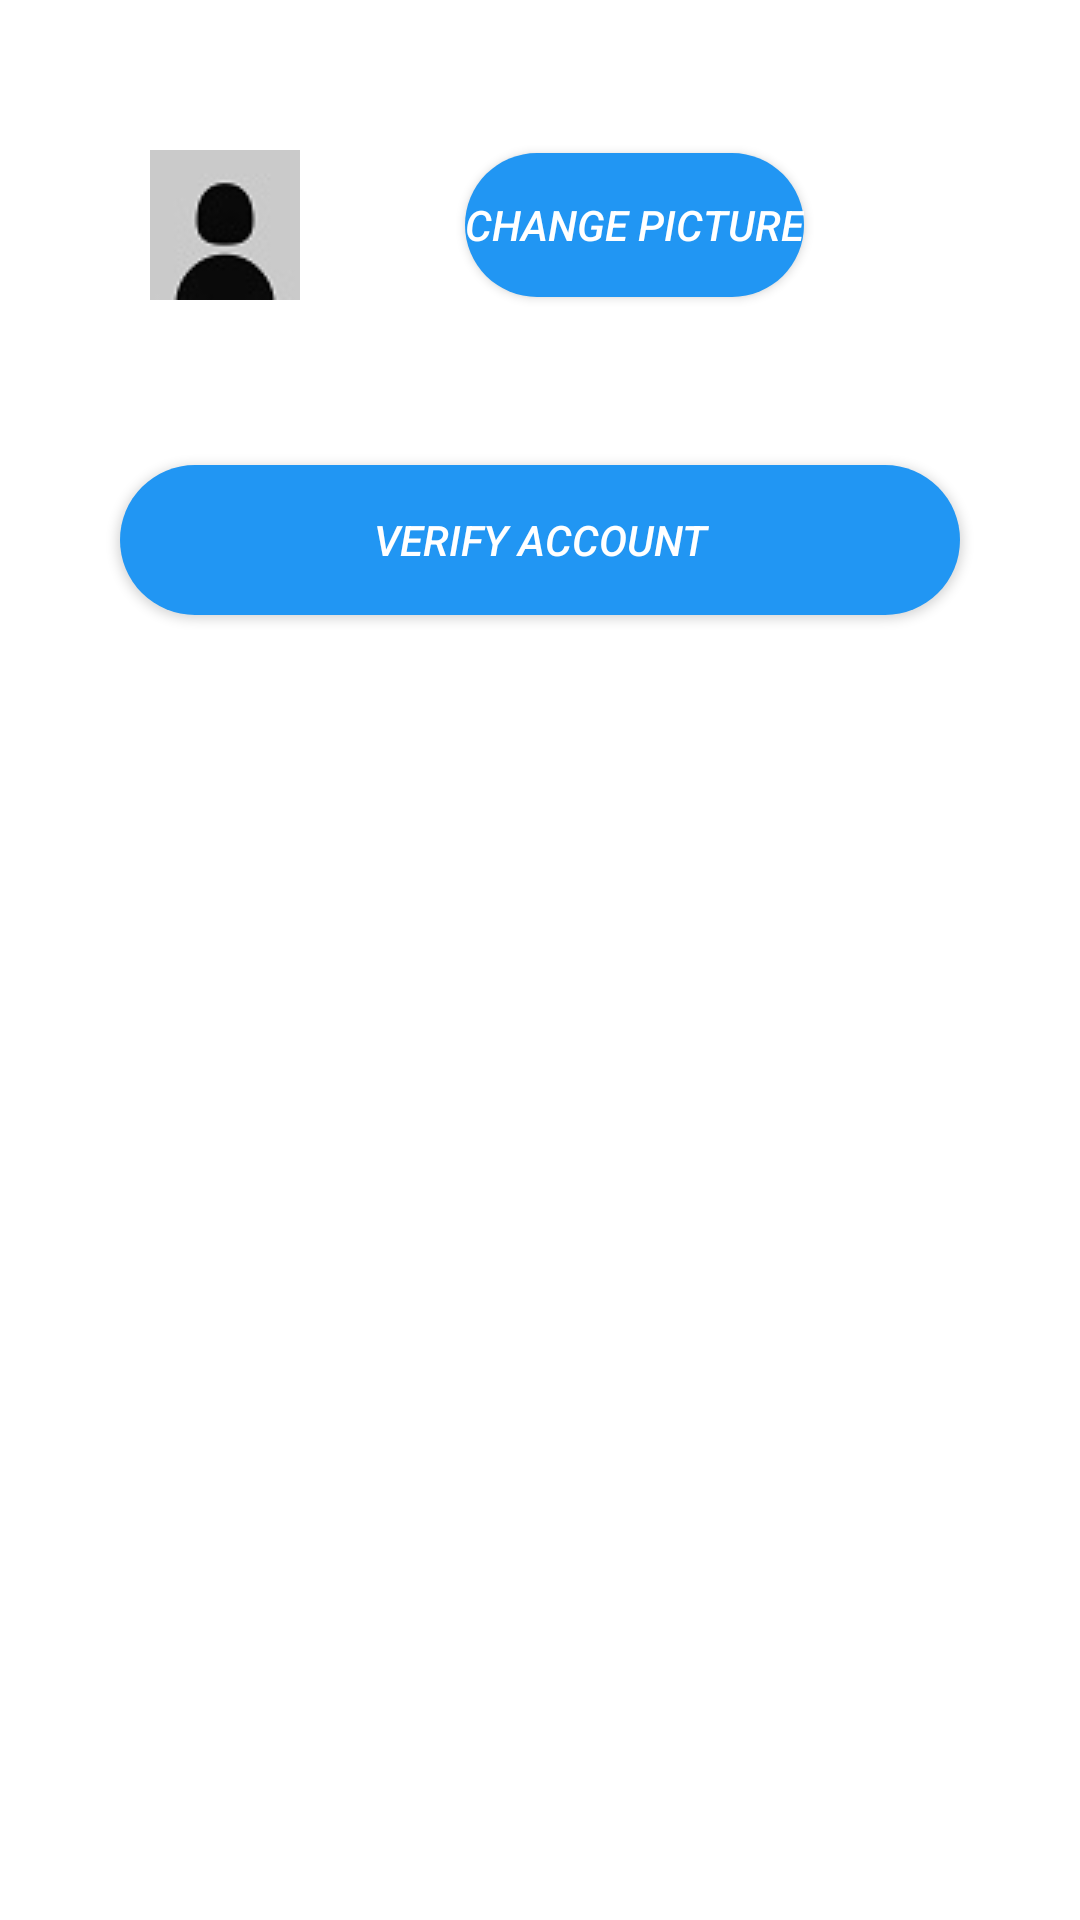

Icons on this 1080×1920 Android screen, each with the point to tap as point (x, y):
ppic: point (225, 225)
